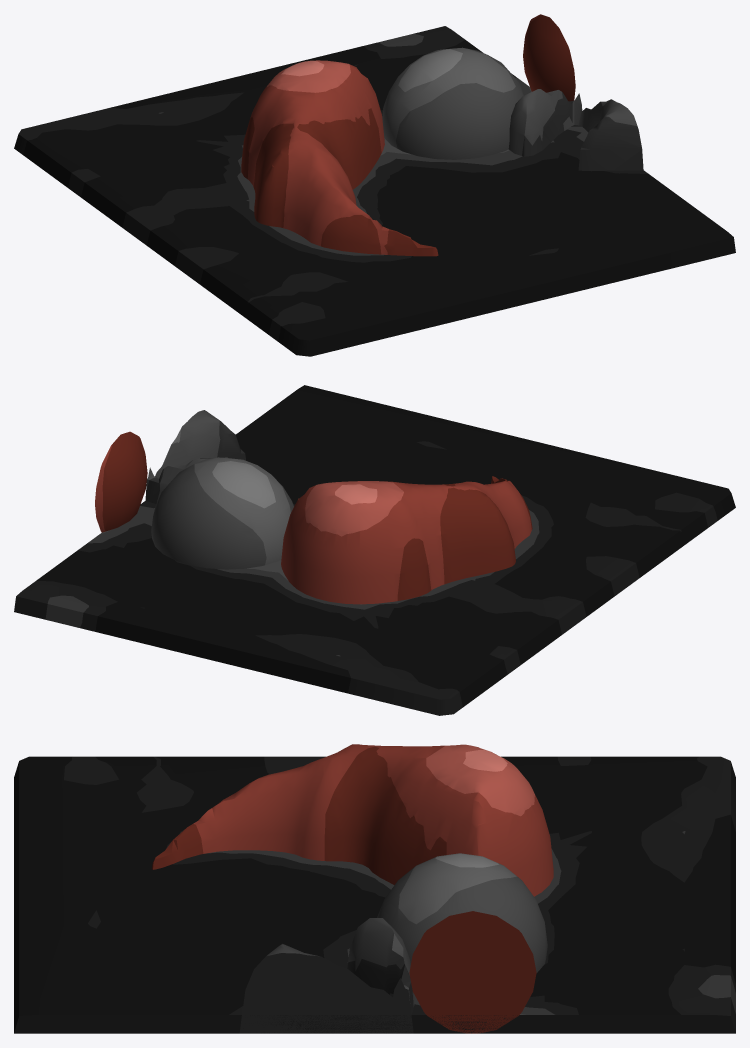
File: brick_crab_left.glb
The picture shows the model from 3 angles, top to bottom: view 1: azimuth 30°, elevation 25°; view 2: azimuth 150°, elevation 25°; view 3: azimuth 270°, elevation 25°; orthographic projection. The views are drawn at different scales.
Visible parts, largest first — view 1: wall, hooks, knob_l, shoulders, ball_l; view 2: wall, hooks, knob_l, ball_l, shoulders; view 3: wall, hooks, shoulders, ball_l, knob_l.
Boxes of the visible parts, x1=… form: wall: x1=14, y1=26, x2=735, y2=356; hooks: x1=241, y1=60, x2=438, y2=256; knob_l: x1=382, y1=47, x2=524, y2=159; shoulders: x1=508, y1=89, x2=643, y2=171; ball_l: x1=523, y1=14, x2=575, y2=101; wall: x1=14, y1=385, x2=735, y2=715; hooks: x1=281, y1=476, x2=532, y2=604; knob_l: x1=151, y1=457, x2=293, y2=569; ball_l: x1=95, y1=431, x2=147, y2=532; shoulders: x1=145, y1=410, x2=246, y2=503; wall: x1=14, y1=756, x2=735, y2=1033; hooks: x1=151, y1=744, x2=553, y2=896; shoulders: x1=239, y1=918, x2=414, y2=1033; ball_l: x1=409, y1=911, x2=536, y2=1033; knob_l: x1=377, y1=853, x2=547, y2=972.
Bounding box in the file's own units: 24 × 5.6 × 28.
